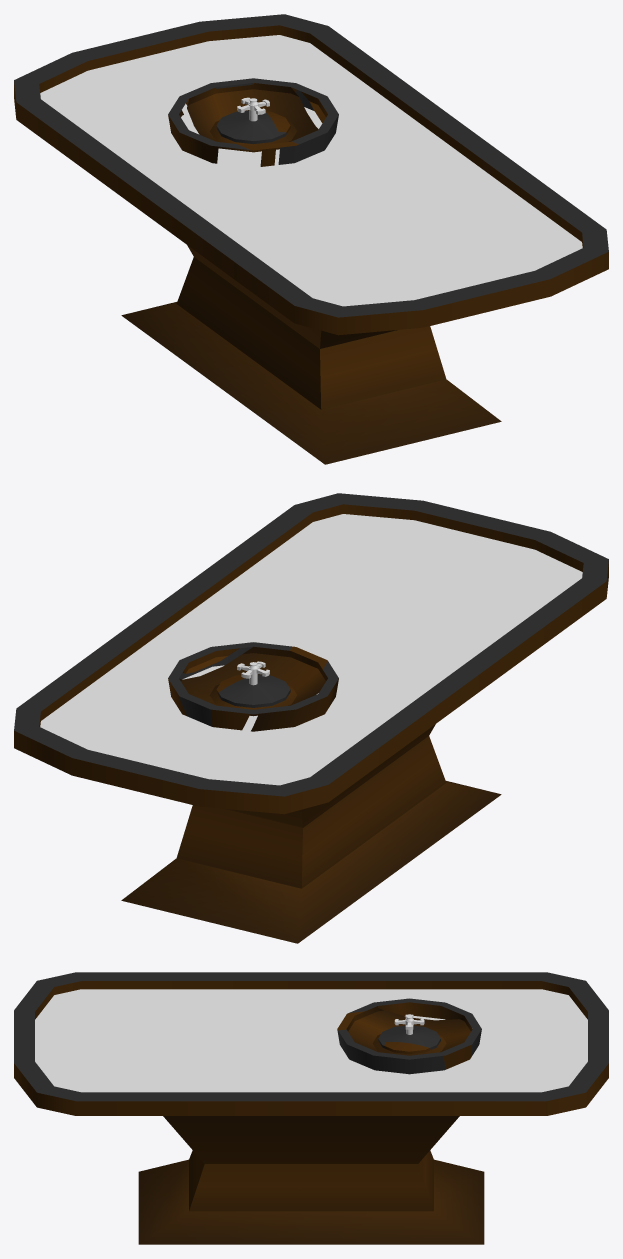
The model's file is Tables.fbx.
The picture shows the model from 3 angles, top to bottom: view 1: azimuth 30°, elevation 25°; view 2: azimuth 150°, elevation 25°; view 3: azimuth 270°, elevation 25°; orthographic projection. The views are drawn at different scales.
Parts seen in each view (by area): view 1: TableA2x1, TableB2x1; view 2: TableA2x1, TableB2x1; view 3: TableA2x1, TableB2x1.
Boxes of the visible parts, box(x1,y1,x2,y2) form: TableA2x1: box(14, 14, 608, 464); TableB2x1: box(53, 43, 576, 302); TableA2x1: box(14, 493, 608, 943); TableB2x1: box(44, 522, 569, 781); TableA2x1: box(14, 972, 608, 1244); TableB2x1: box(81, 989, 541, 1092).
Size of the model in its own units: 88.33 by 61.15 by 172.
3 materials, 1 textured.
